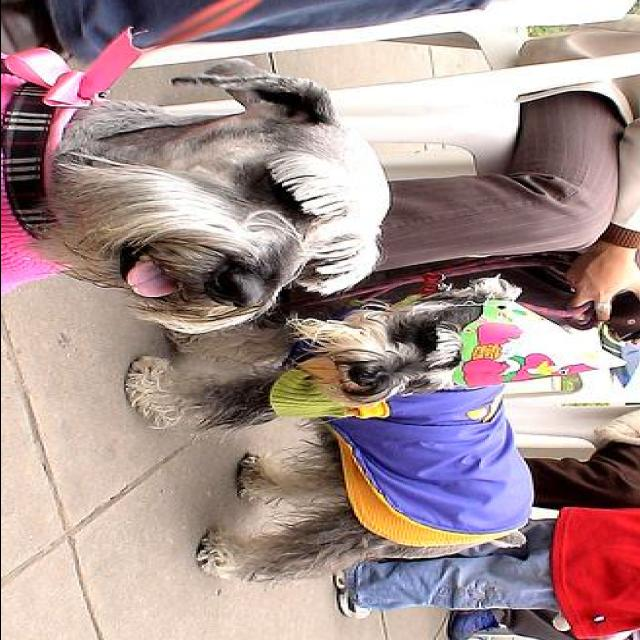standard_schnauzer: (108, 272, 626, 590), (2, 58, 394, 332)
